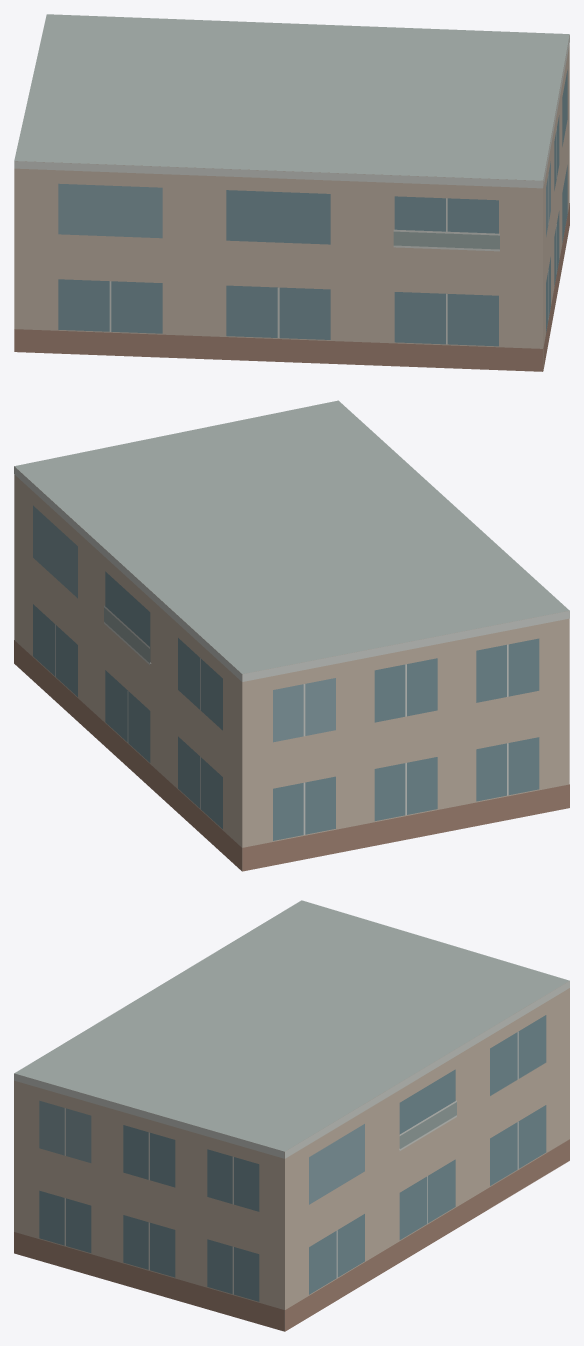
Rendered from survey-upis-32892829.glb.
3 renders of one model, top to bottom at view 1: azimuth 30°, elevation 25°; view 2: azimuth 150°, elevation 25°; view 3: azimuth 270°, elevation 25°, orthographic. The views are drawn at different scales.
Visible parts, largest first — view 1: survey-upis-32892829.tmp; view 2: survey-upis-32892829.tmp; view 3: survey-upis-32892829.tmp.
Part boxes in pixels (x1=…): survey-upis-32892829.tmp: x1=14, y1=14, x2=569, y2=371; survey-upis-32892829.tmp: x1=14, y1=400, x2=569, y2=871; survey-upis-32892829.tmp: x1=14, y1=900, x2=569, y2=1331.
Bounding box in the file's own units: 18.29 × 6.1 × 17.08.
